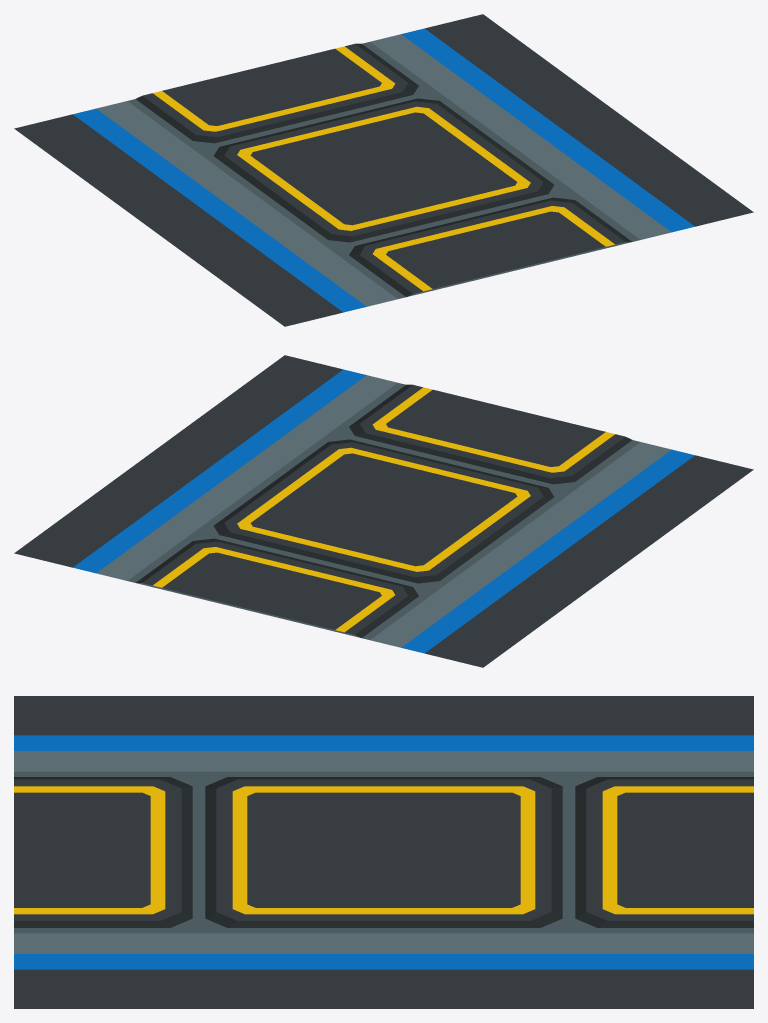
Rendered from Floor_type_C_032_002.glb.
3 views of the same model, one above another, from view 1: azimuth 30°, elevation 25°; view 2: azimuth 150°, elevation 25°; view 3: azimuth 270°, elevation 25° (orthographic). The views are drawn at different scales.
Parts seen in each view (by area): view 1: Floor_type_C_032.002; view 2: Floor_type_C_032.002; view 3: Floor_type_C_032.002.
Boxes of the visible parts, bbox=[...] form: Floor_type_C_032.002: bbox=[14, 14, 753, 326]; Floor_type_C_032.002: bbox=[14, 355, 753, 667]; Floor_type_C_032.002: bbox=[14, 696, 753, 1008].
Size of the model in its own units: 4 by 0.0134 by 4.
Materials: 2 (2 with a texture image).
